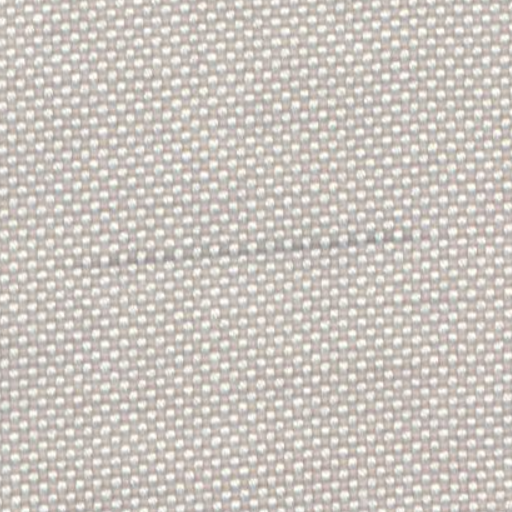WuZi: (84, 232, 408, 270)
